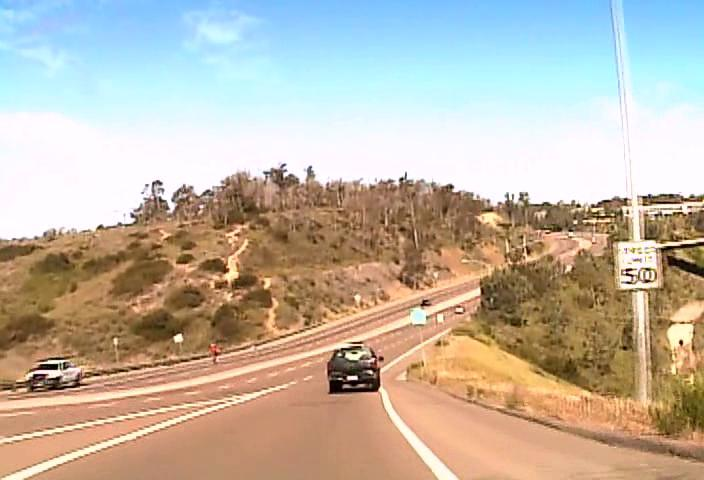speedLimit50: (615, 239, 663, 290)
